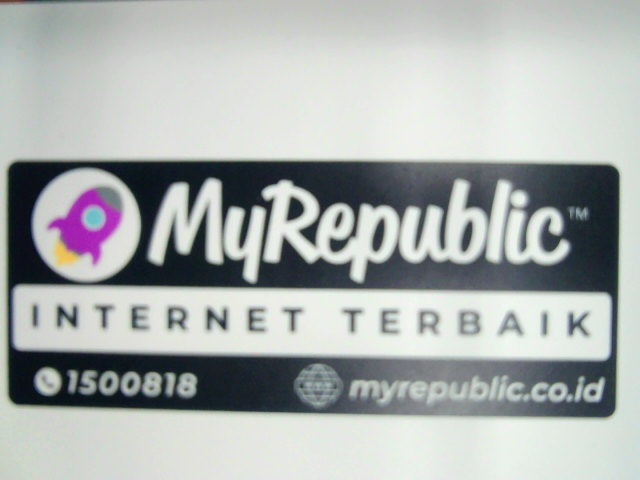BD_MyRepublic: (4, 158, 629, 418)
